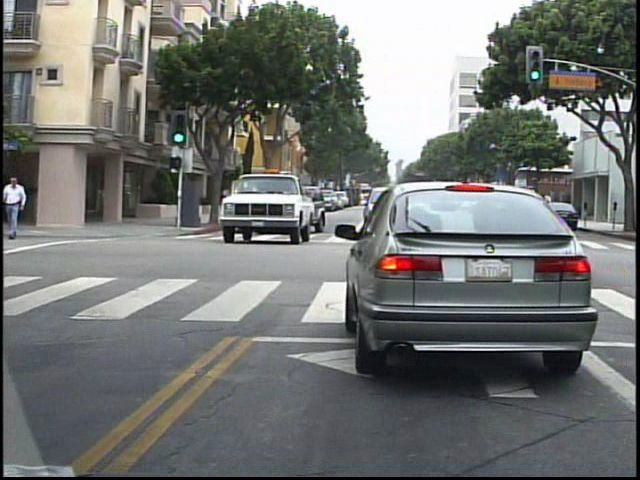person: (6, 173, 35, 243)
